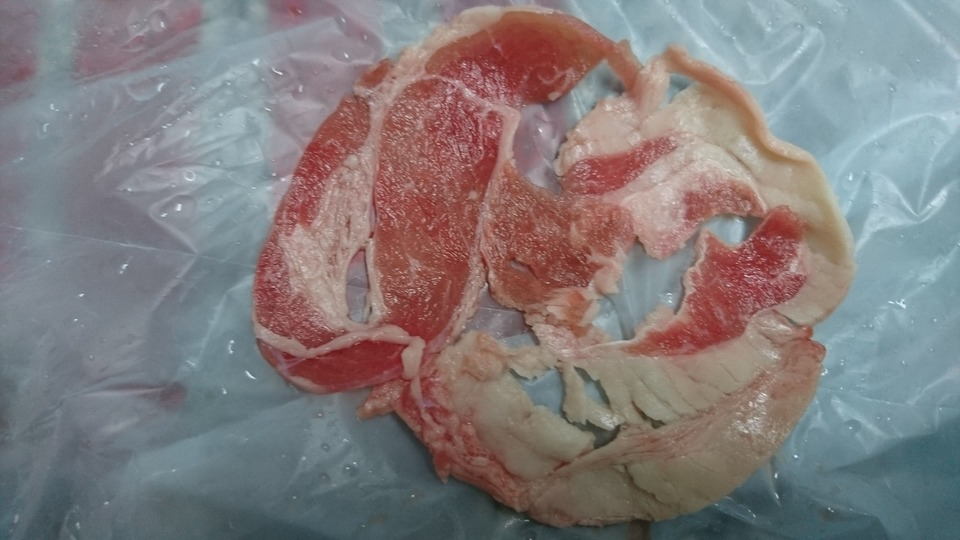restructured meat: (256, 9, 840, 519)
